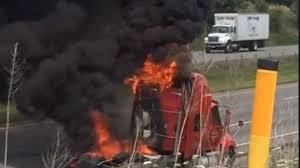fire: (82, 113, 156, 160), (124, 53, 178, 93)
